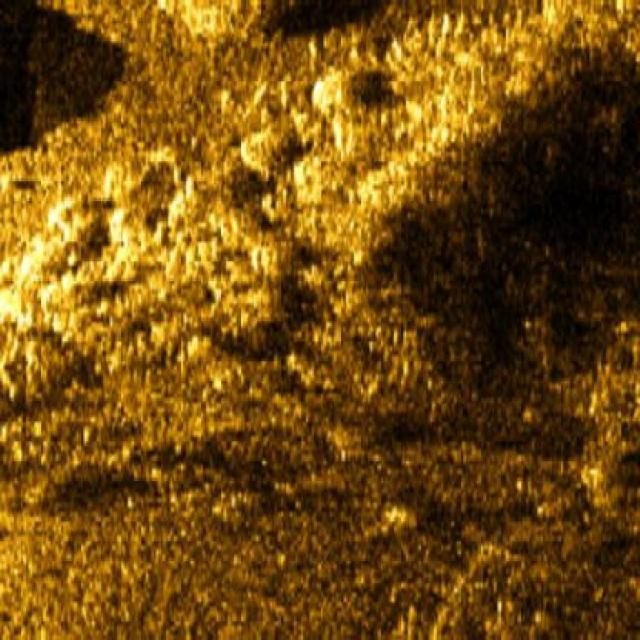bedrock group: (0, 0, 637, 632)
